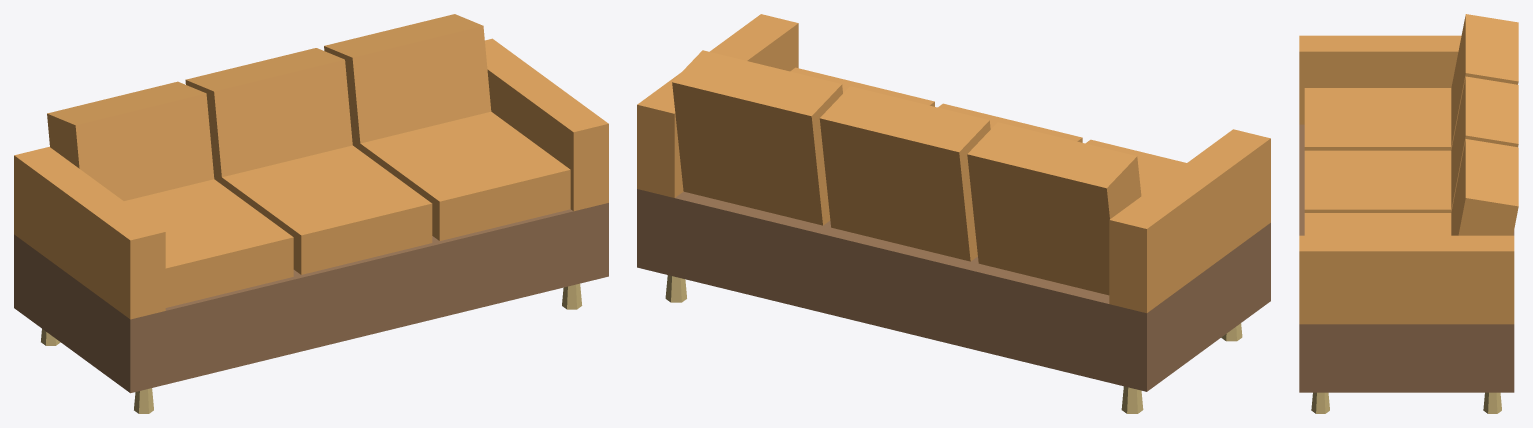
File: HJ_Sofa.fbx
3 views of the same model, side by side, from view 1: azimuth 30°, elevation 25°; view 2: azimuth 150°, elevation 25°; view 3: azimuth 270°, elevation 25° (orthographic). The views are drawn at different scales.
Parts seen in each view (by area): view 1: HJ_Sofa; view 2: HJ_Sofa; view 3: HJ_Sofa.
Boxes of the visible parts, x1,y1,x2,y2 form: HJ_Sofa: (14,14,608,413); HJ_Sofa: (637,14,1270,413); HJ_Sofa: (1299,14,1518,413).
Bounding box in the file's own units: 1.9 × 0.854 × 0.8167.
